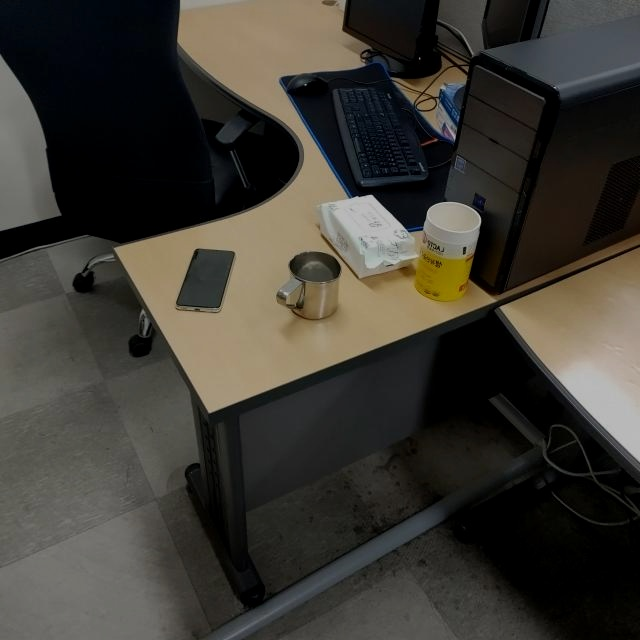cup: (276, 250, 343, 321)
phone: (174, 246, 235, 314)
